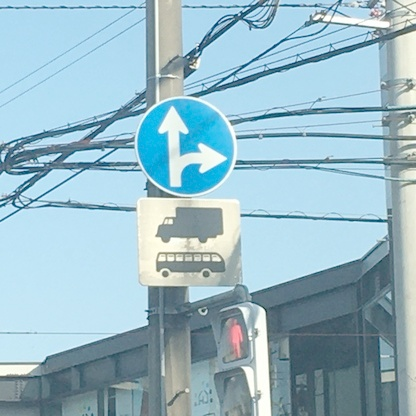Direction_sign: (124, 88, 251, 200)
